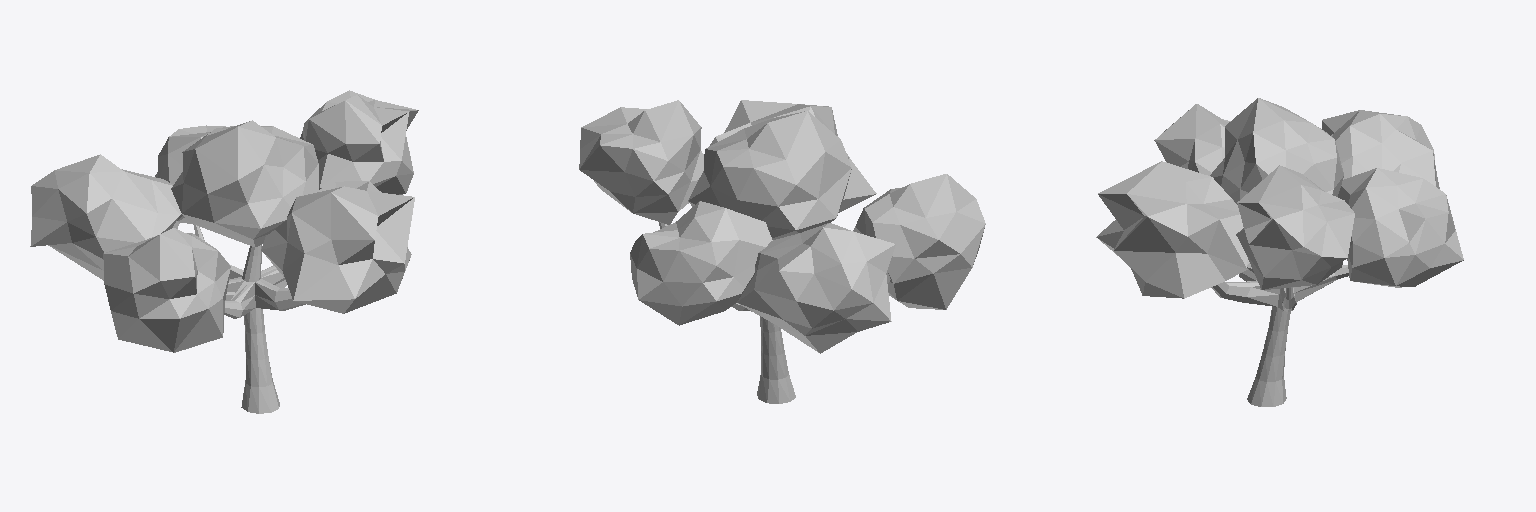
The model's file is tree.obj.
3 views of the same model, side by side, from view 1: azimuth 30°, elevation 25°; view 2: azimuth 150°, elevation 25°; view 3: azimuth 270°, elevation 25° (orthographic).
Parts seen in each view (by area): view 1: Icosphere.004, Icosphere, Icosphere.002, Icosphere.001, Icosphere.003, Cylinder, Icosphere.005; view 2: Icosphere.001, Icosphere, Icosphere.005, Icosphere.002, Icosphere.003, Icosphere.004, Cylinder; view 3: Icosphere.004, Icosphere.005, Icosphere.003, Icosphere, Icosphere.001, Cylinder, Icosphere.002.
Part boxes in pixels (left/top/right/bottom): Icosphere.004: left=261, top=181, right=414, bottom=313; Icosphere: left=171, top=120, right=318, bottom=246; Icosphere.002: left=103, top=228, right=230, bottom=352; Icosphere.001: left=30, top=154, right=182, bottom=280; Icosphere.003: left=300, top=90, right=418, bottom=194; Cylinder: left=193, top=224, right=305, bottom=413; Icosphere.005: left=155, top=125, right=225, bottom=223; Icosphere.001: left=737, top=223, right=895, bottom=353; Icosphere: left=688, top=111, right=851, bottom=239; Icosphere.005: left=630, top=201, right=772, bottom=325; Icosphere.002: left=853, top=174, right=985, bottom=309; Icosphere.003: left=579, top=100, right=703, bottom=224; Icosphere.004: left=710, top=100, right=876, bottom=212; Cylinder: left=659, top=222, right=795, bottom=403; Icosphere.004: left=1096, top=161, right=1247, bottom=298; Icosphere.005: left=1338, top=168, right=1463, bottom=287; Icosphere.003: left=1236, top=165, right=1354, bottom=289; Icosphere: left=1210, top=98, right=1343, bottom=204; Icosphere.001: left=1322, top=110, right=1439, bottom=188; Cylinder: left=1211, top=257, right=1348, bottom=406; Icosphere.002: left=1154, top=104, right=1230, bottom=175.
Bounding box in the file's own units: 40.59 × 32 × 36.99.